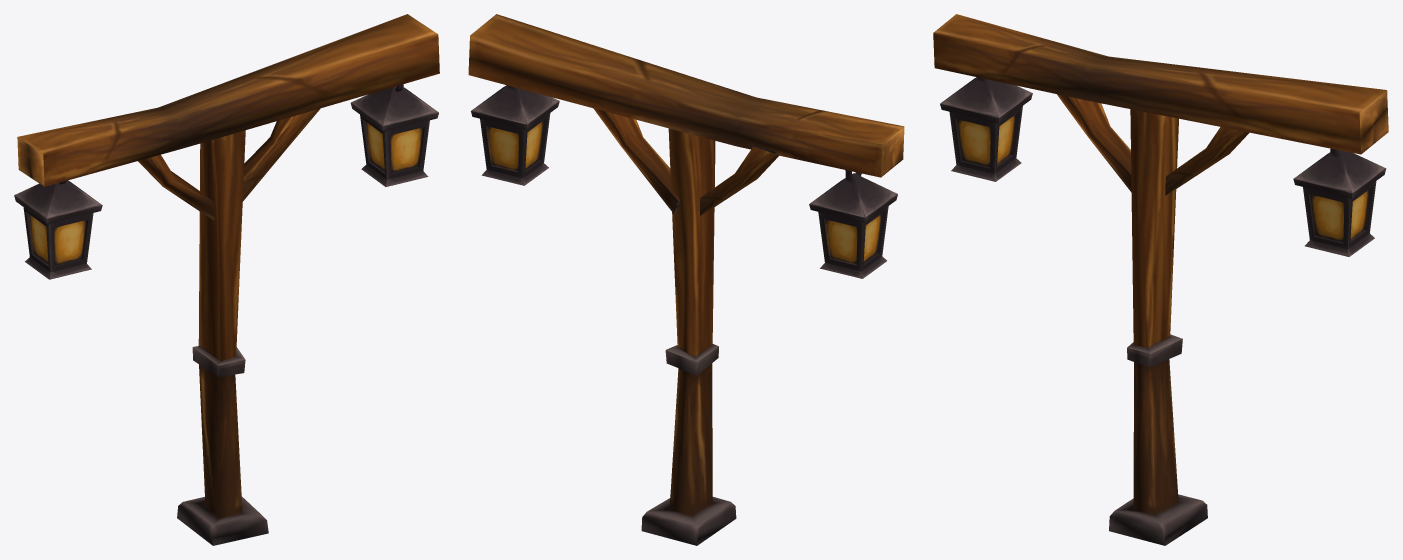
The model's file is lamp_1.fbx.
3 renders of one model, left to right at view 1: azimuth 30°, elevation 25°; view 2: azimuth 150°, elevation 25°; view 3: azimuth 330°, elevation 25°, orthographic. The views are drawn at different scales.
Parts seen in each view (by area): view 1: lamp_1; view 2: lamp_1; view 3: lamp_1.
Part boxes in pixels (x1,y1,x2,y2): lamp_1: (14, 14, 439, 545); lamp_1: (468, 14, 904, 545); lamp_1: (933, 14, 1388, 545).
Size of the model in its own units: 3.08 by 3.29 by 0.5113.
